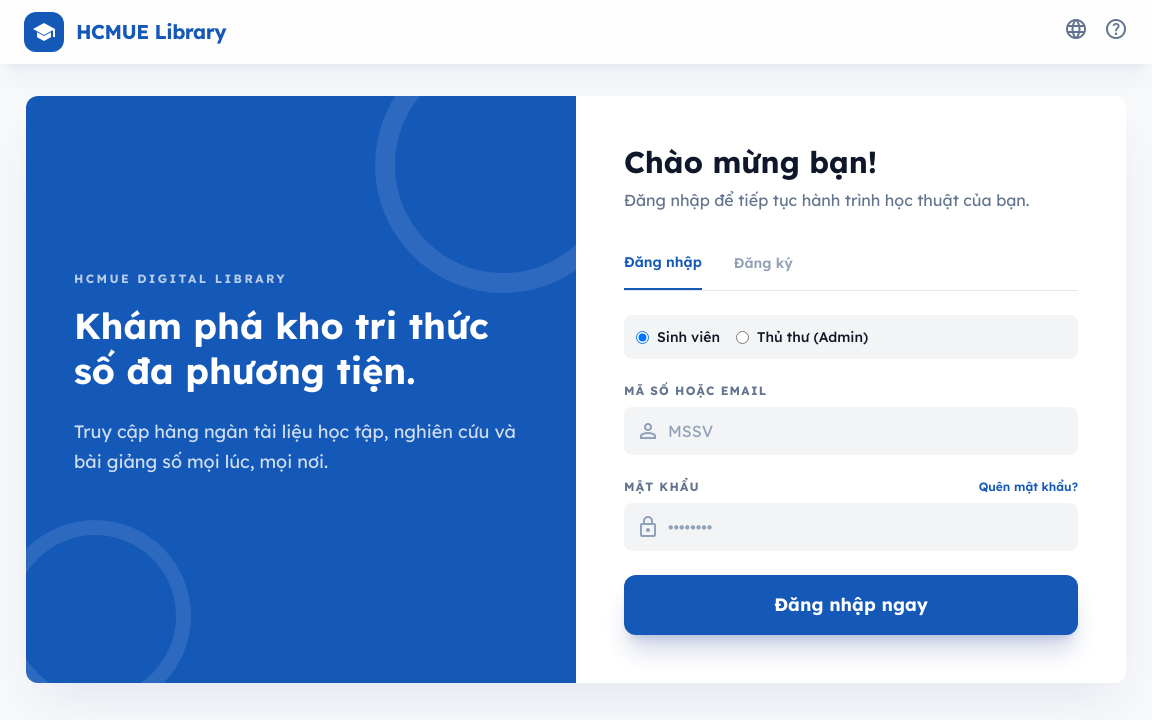
Test: Login › shows register validation feedback inline
Click the button "Đăng ký" at [763, 271], box [734,252,793,290]
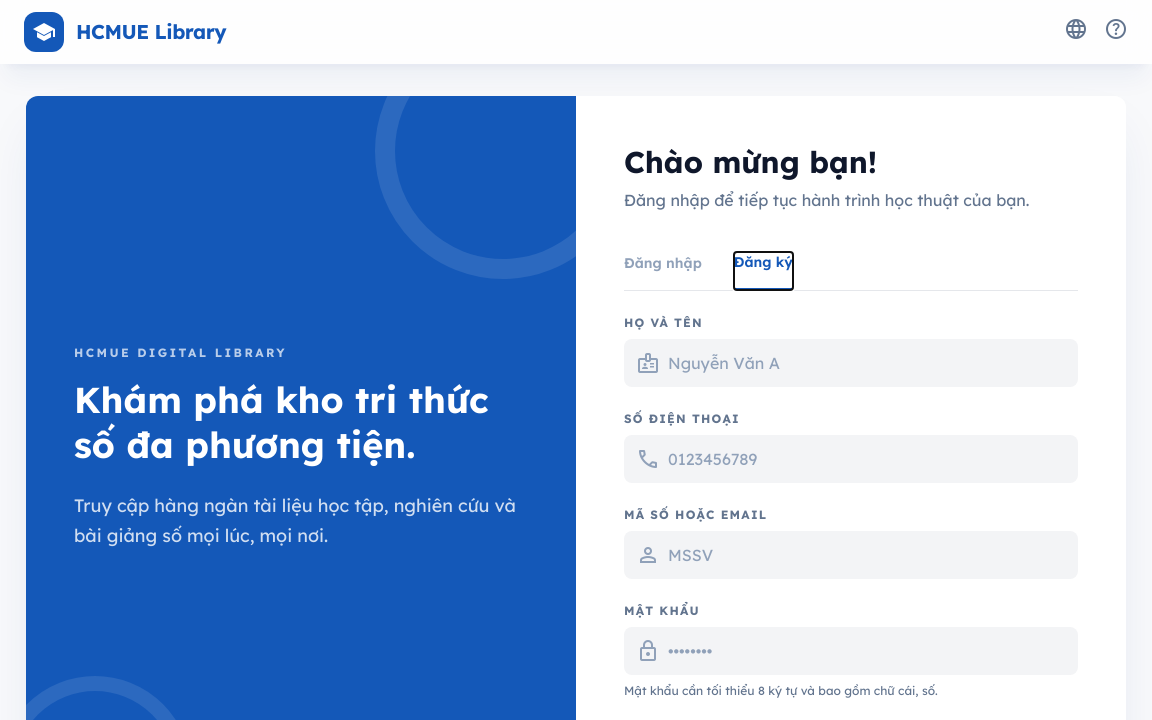
Type "Nguyen Van A" into the field with placeholder "Nguyễn Văn A" at [851, 363], box [624,339,1078,387]
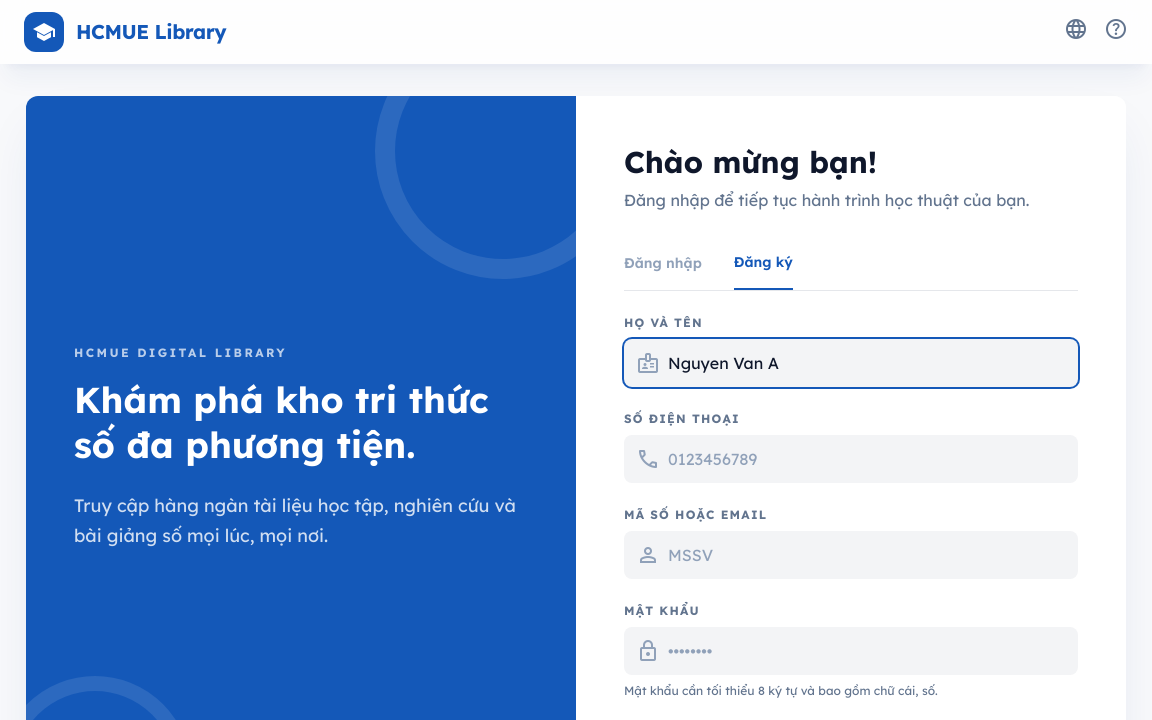
Type "not-an-email" into the field with placeholder "MSSV" at [851, 555], box [624,531,1078,579]
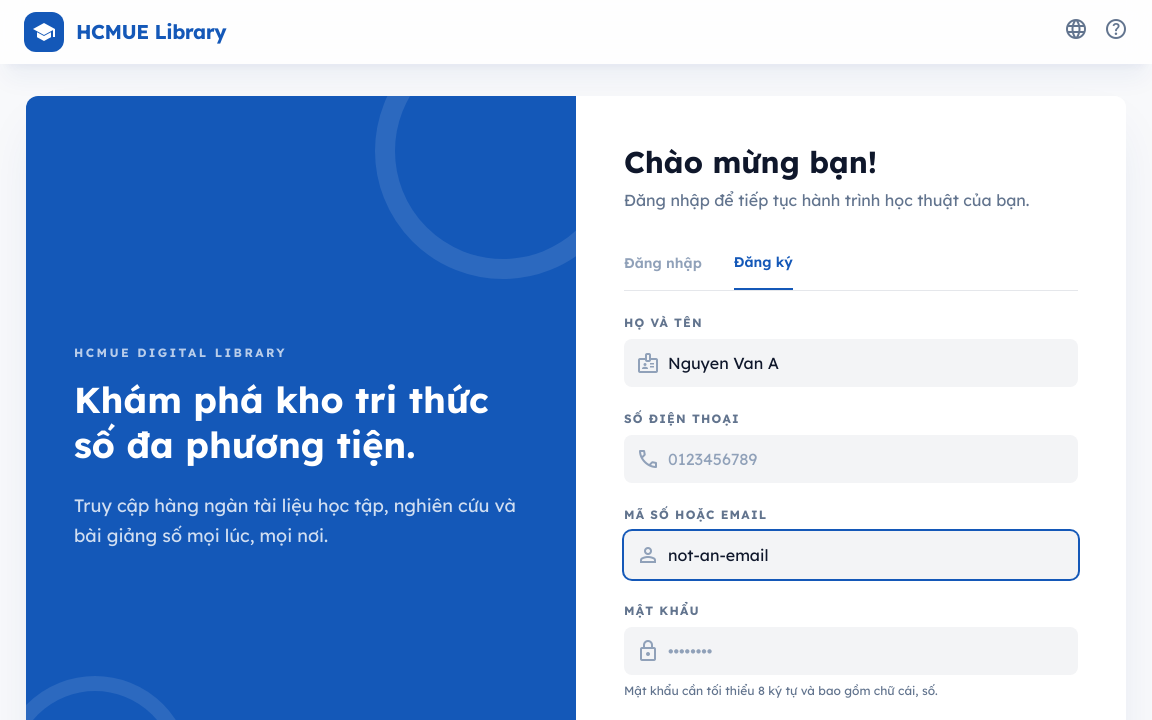
Type "Password123" into the password field with placeholder "••••••••" at [851, 651], box [624,627,1078,675]
(page scrolled)
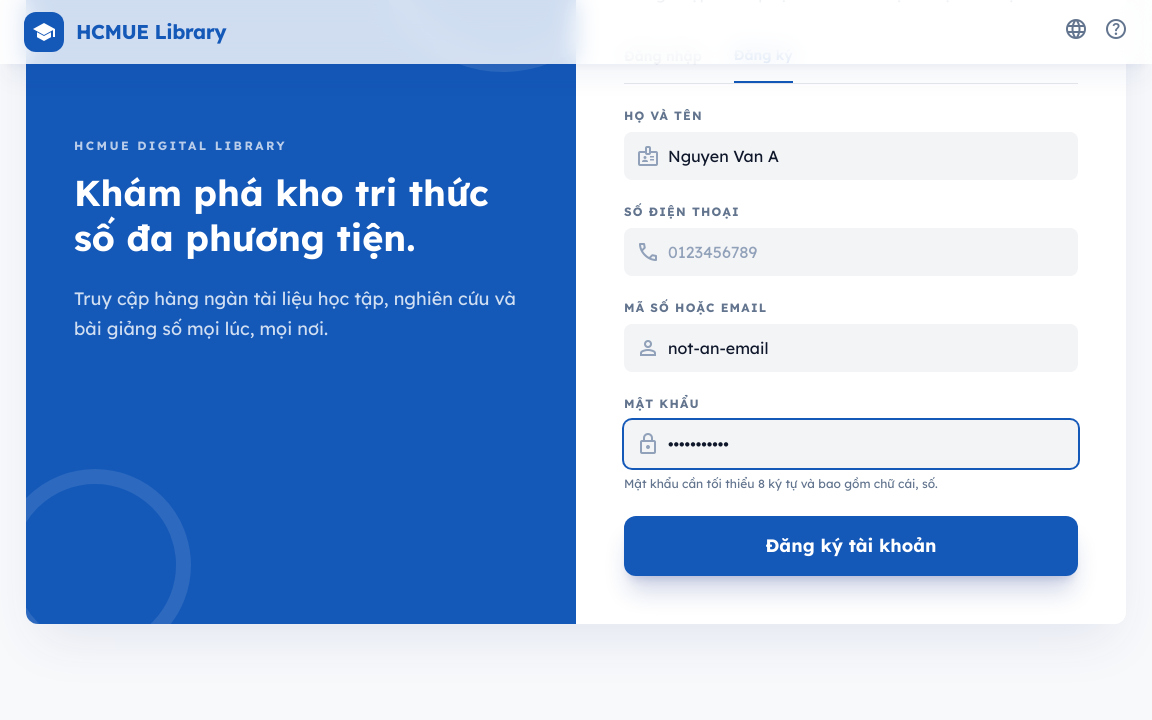
Click the button "Đăng ký tài khoản" at [851, 546], box [624,516,1078,576]
(page scrolled)
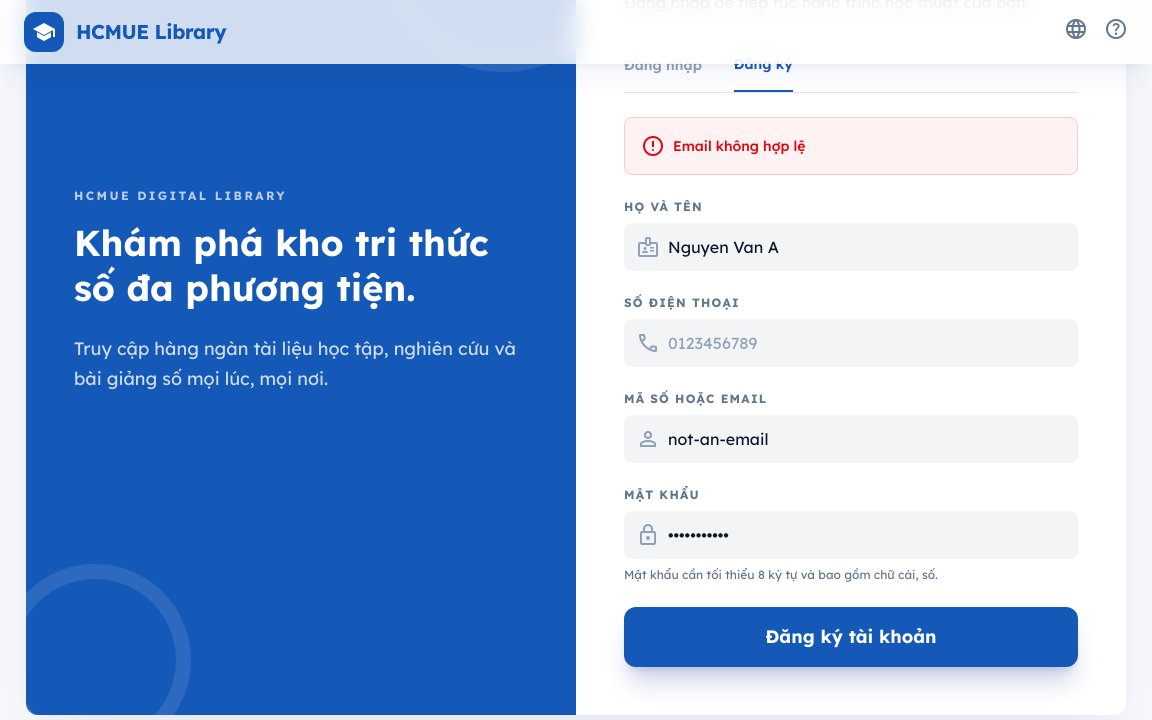
Expected: the text "Email không hợp lệ" is shown, [624,117,1078,175]
